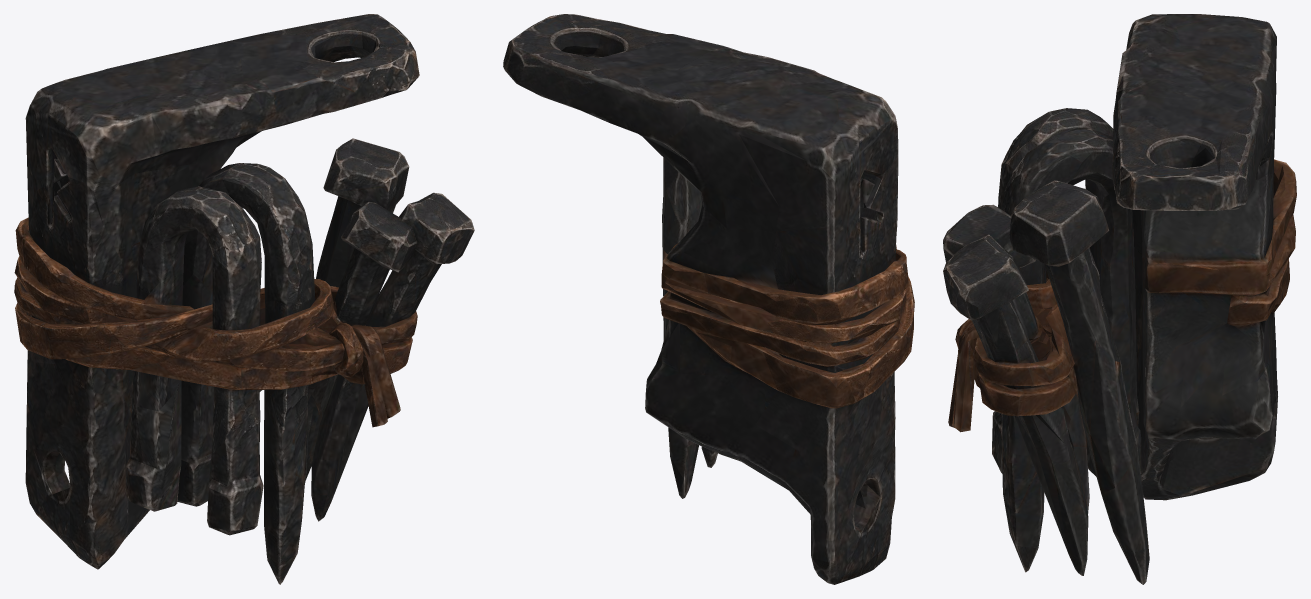
File: GoodsBrackets.fbx
3 renders of one model, left to right at view 1: azimuth 30°, elevation 25°; view 2: azimuth 150°, elevation 25°; view 3: azimuth 270°, elevation 25°, orthographic. The views are drawn at different scales.
Visible parts, largest first — view 1: output_unwrapped; view 2: output_unwrapped; view 3: output_unwrapped.
Boxes of the visible parts, x1,y1,x2,y2 form: output_unwrapped: (14,14,474,584); output_unwrapped: (503,14,914,584); output_unwrapped: (943,14,1296,584).
Bounding box in the file's own units: 158 × 190 × 123.
1 material, 1 textured.
